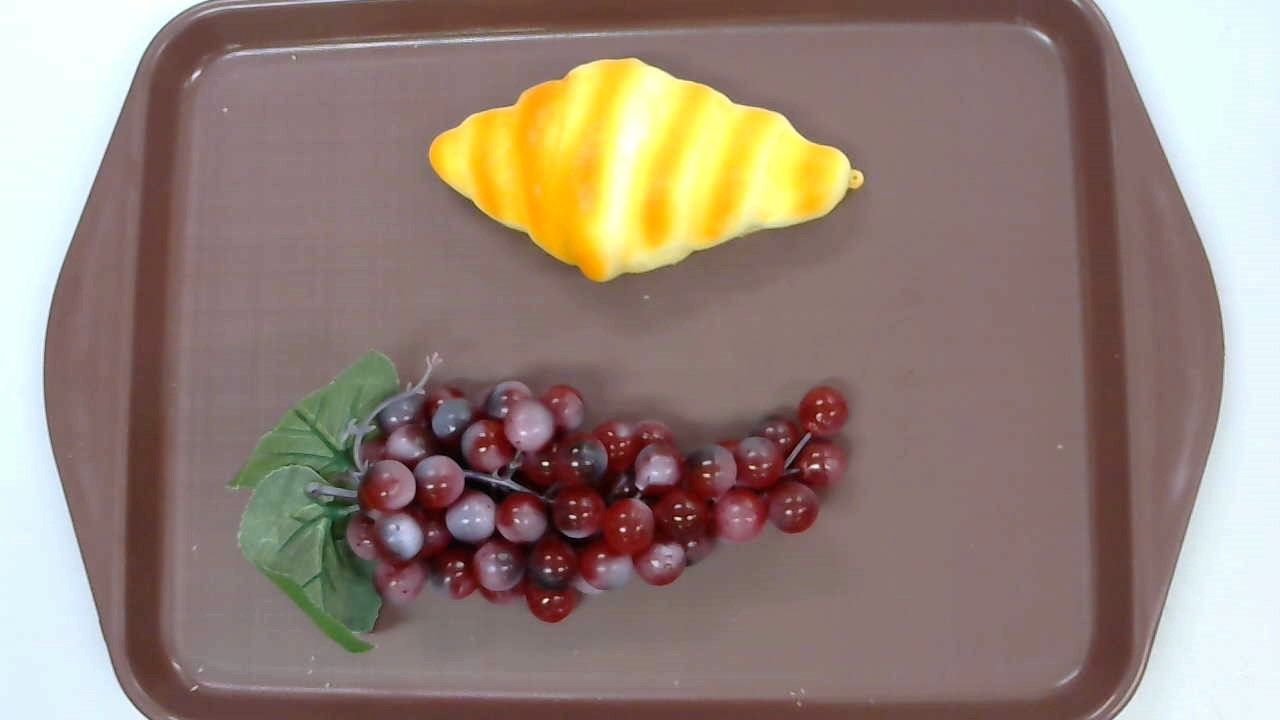croissant: (427, 58, 864, 283)
grape: (225, 348, 849, 655)
